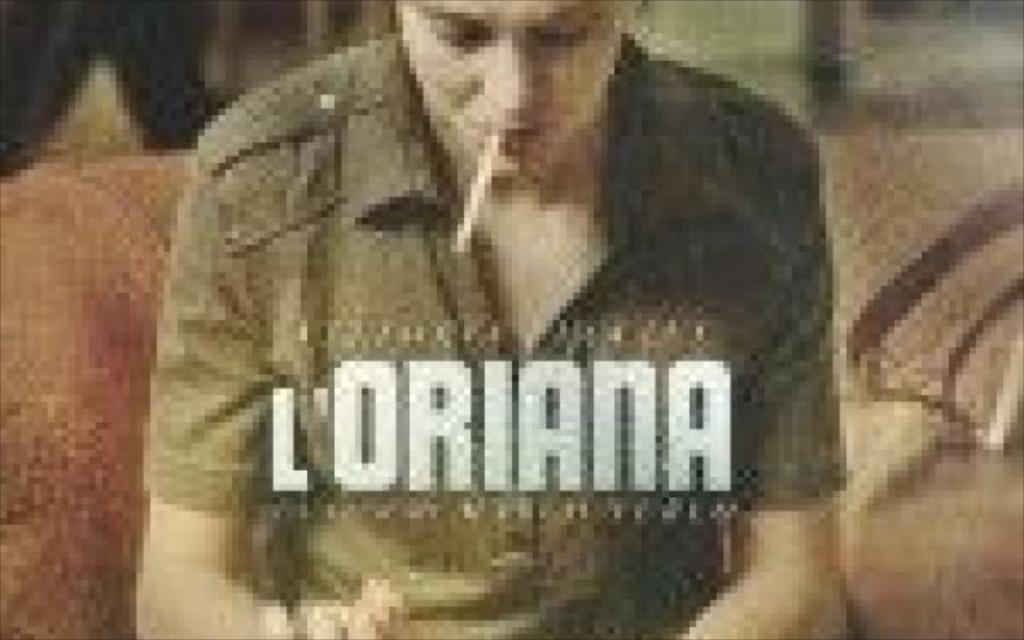Human-face: (397, 0, 626, 174)
